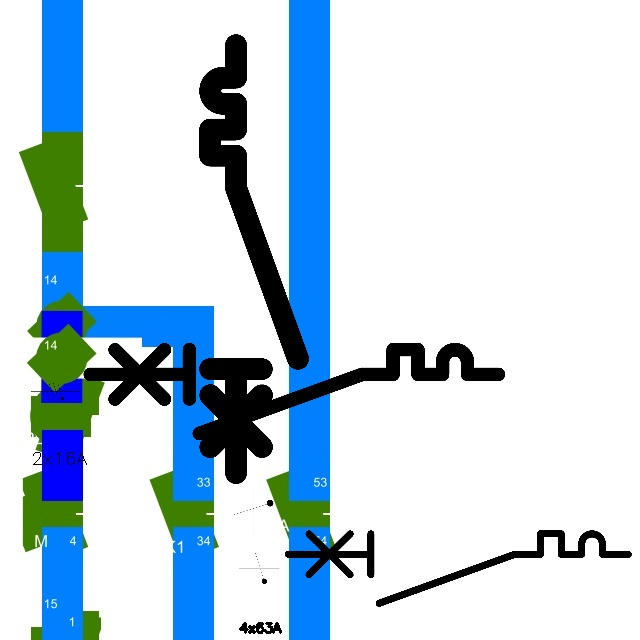interruptor_termomagnetico: (199, 34, 309, 484), (79, 339, 509, 444), (279, 525, 637, 612)
